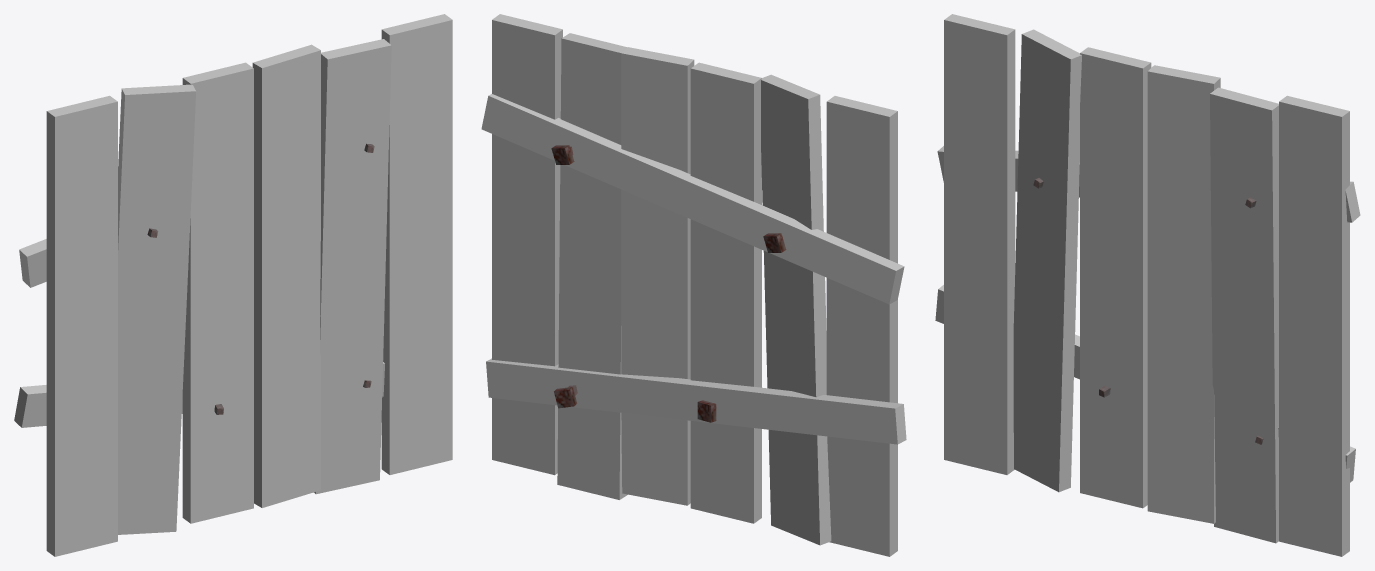
The model's file is Fence.obj.
3 renders of one model, left to right at view 1: azimuth 30°, elevation 25°; view 2: azimuth 150°, elevation 25°; view 3: azimuth 330°, elevation 25°, orthographic.
Visible parts, largest first — view 1: Cube.006; view 2: Cube.006; view 3: Cube.006.
Boxes of the visible parts, left/top/right/bottom form: Cube.006: left=14, top=14, right=452, bottom=556; Cube.006: left=481, top=14, right=906, bottom=556; Cube.006: left=935, top=14, right=1360, bottom=556.
Size of the model in its own units: 3.03 by 3.05 by 0.4358.
